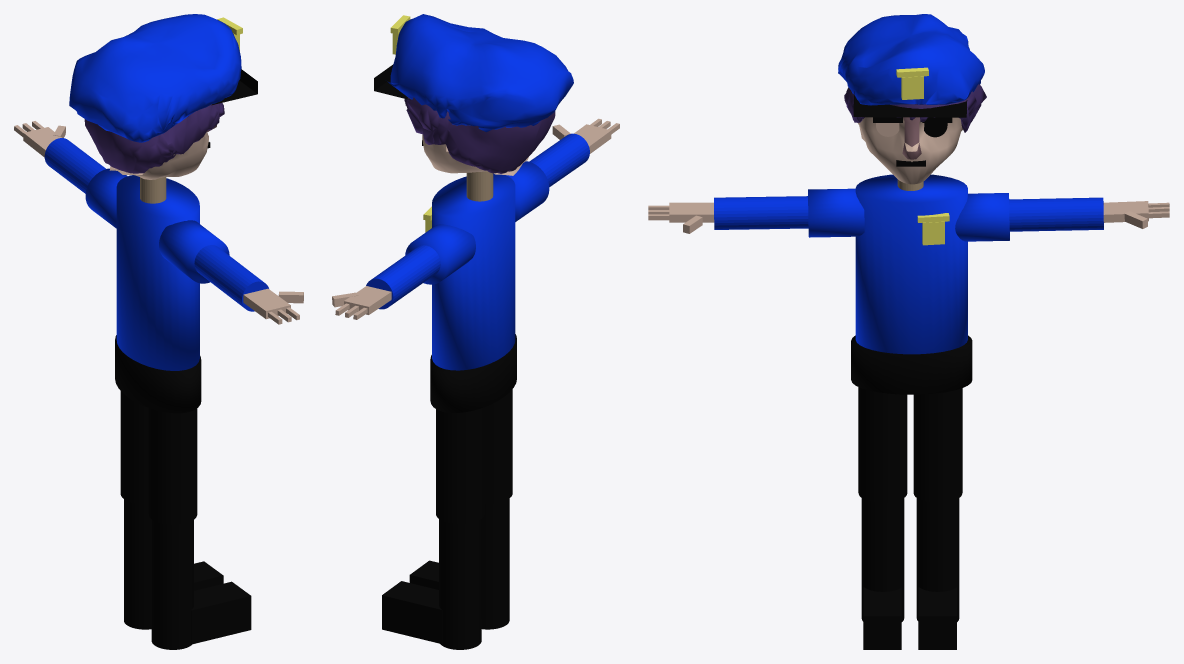
The model's file is Cop.fbx.
The picture shows the model from 3 angles, left to right: view 1: azimuth 30°, elevation 25°; view 2: azimuth 150°, elevation 25°; view 3: azimuth 270°, elevation 25°; orthographic projection.
Visible parts, largest first — view 1: Cop; view 2: Cop; view 3: Cop.
Boxes of the visible parts, <box> form: Cop: <box>14,14,303,649</box>; Cop: <box>332,14,619,649</box>; Cop: <box>648,14,1169,649</box>.
Bounding box in the file's own units: 154 × 542 × 432.
